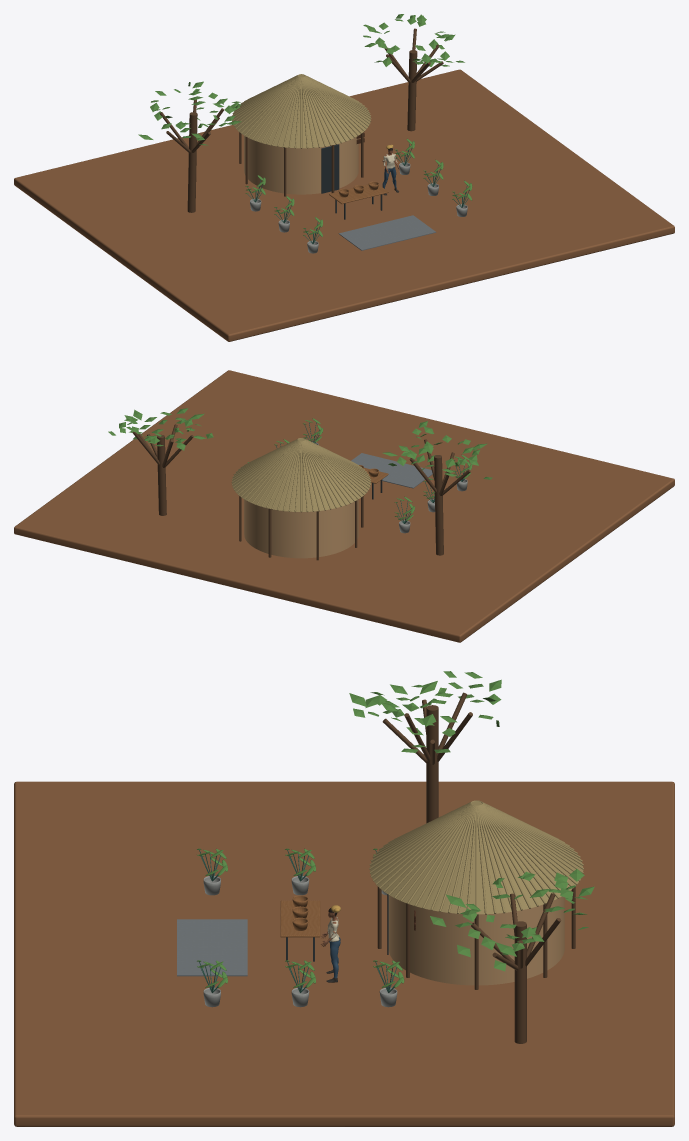
File: herbalist-shrine.glb
3 renders of one model, top to bottom at view 1: azimuth 30°, elevation 25°; view 2: azimuth 150°, elevation 25°; view 3: azimuth 270°, elevation 25°, orthographic. The views are drawn at different scales.
Parts seen in each view (by area): view 1: Earth plot, Conical thatch roof, Round earthen wall, Preparation mat, Trunk, Dark doorway, Trunk.001, Oak table top; view 2: Earth plot, Round earthen wall, Conical thatch roof, Preparation mat, Trunk, Trunk.001; view 3: Earth plot, Round earthen wall, Conical thatch roof, Preparation mat, Trunk.001, Trunk, Oak table top.
Boxes of the visible parts, x1,y1,x2,y2 form: Earth plot: (14,69,674,341); Conical thatch roof: (233,74,370,148); Round earthen wall: (244,136,358,194); Preparation mat: (338,215,436,250); Trunk: (187,112,197,212); Dark doorway: (321,144,339,193); Trunk.001: (407,50,417,131); Oak table top: (329,184,388,203); Earth plot: (14,370,674,642); Round earthen wall: (244,499,358,558); Conical thatch roof: (232,438,370,511); Preparation mat: (351,453,432,488); Trunk: (434,455,443,555); Trunk.001: (157,434,166,515); Earth plot: (14,781,674,1126); Round earthen wall: (388,895,564,985); Conical thatch roof: (370,801,583,914); Preparation mat: (177,919,247,976); Trunk.001: (514,921,526,1043); Trunk: (426,705,438,823); Oak table top: (280,900,320,937).
Size of the model in its own units: 18 by 4.67 by 15.
Materials: 18 (4 with a texture image).
